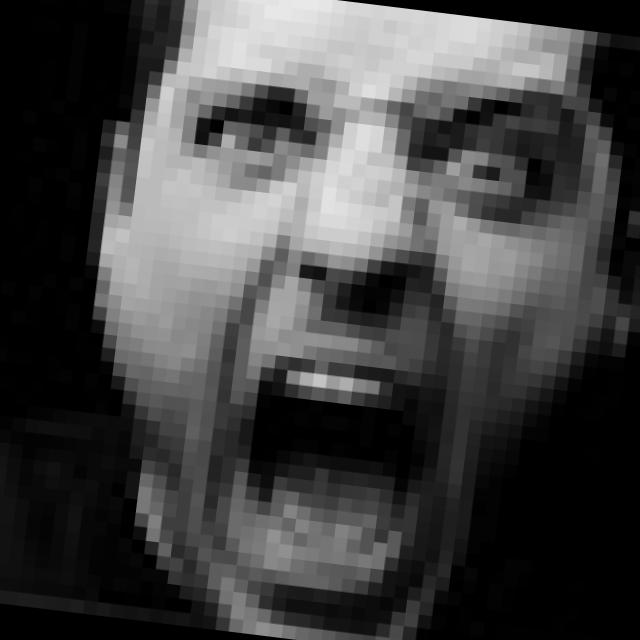angry: (127, 44, 570, 619)
